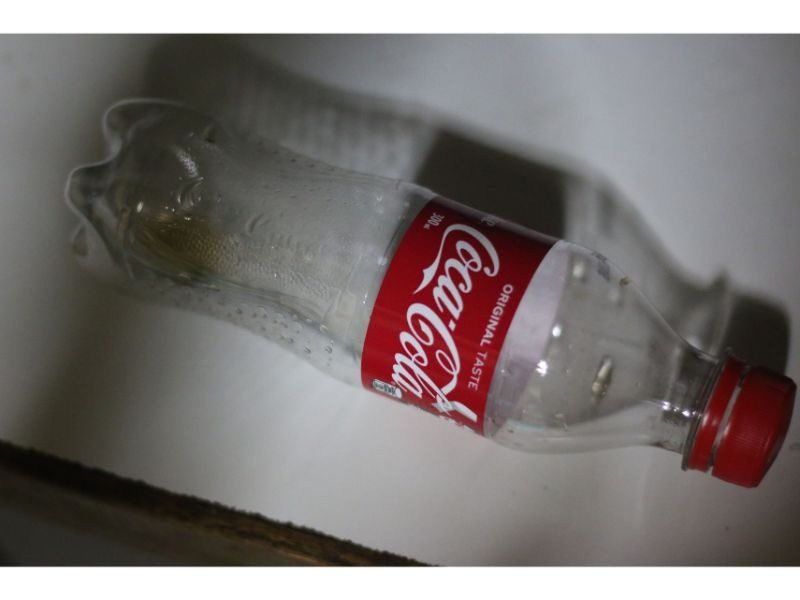PET #1: (61, 90, 797, 512)
